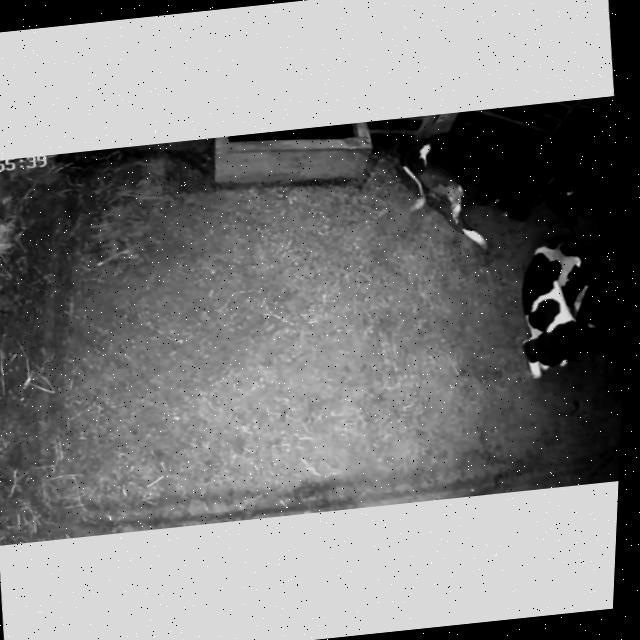lay: (382, 105, 601, 258), (501, 224, 618, 397)
